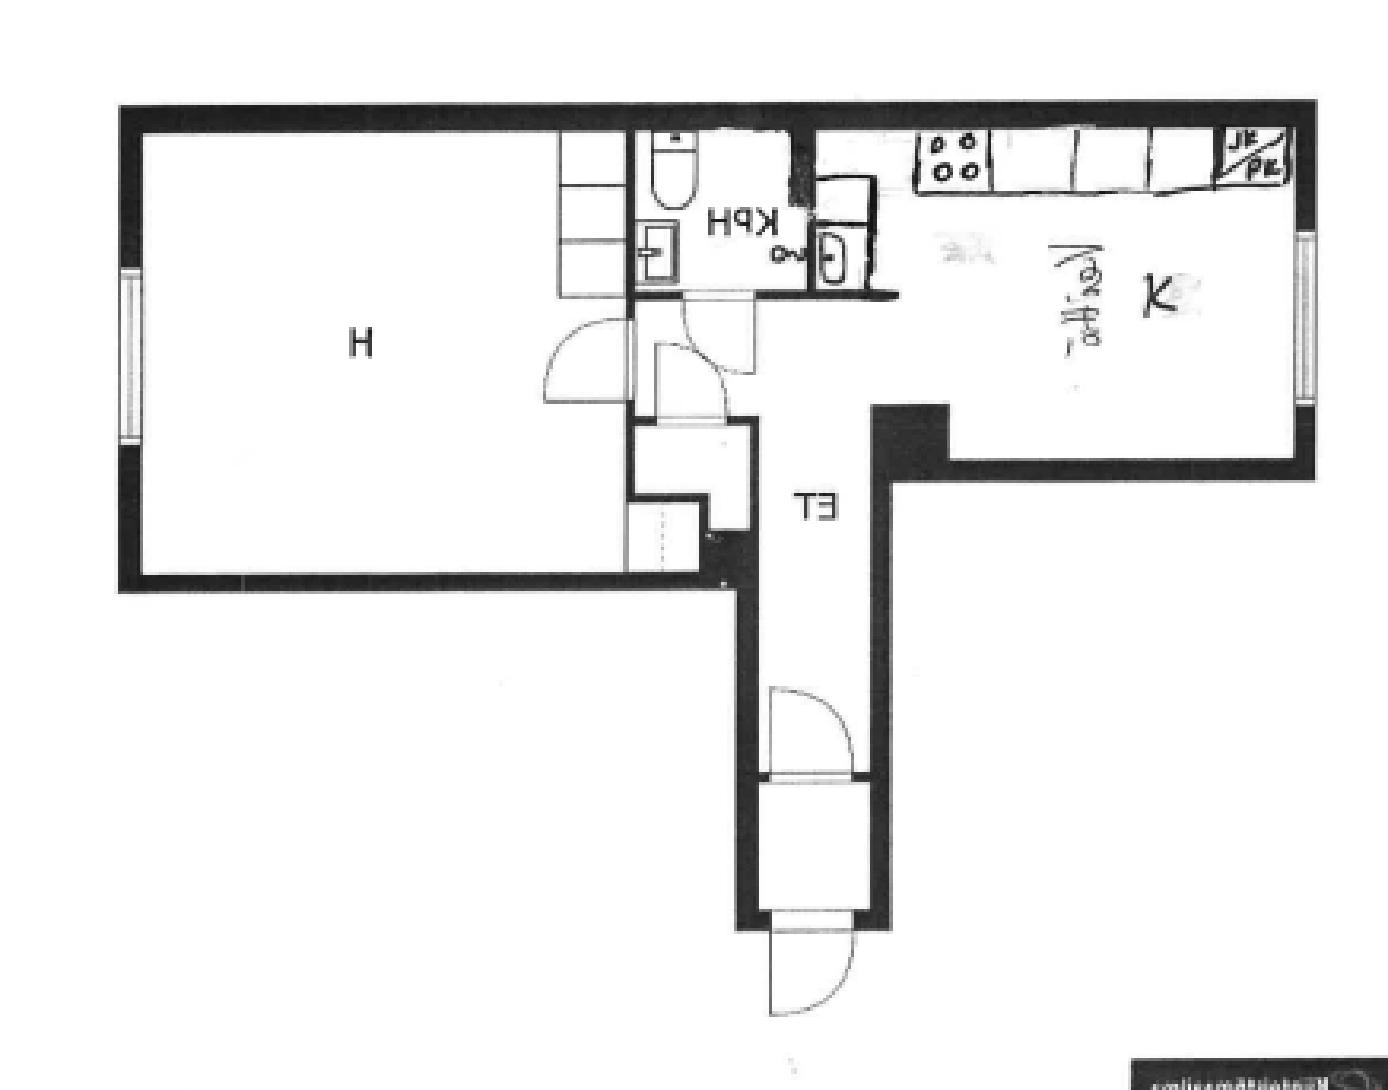door: (763, 900, 858, 1035), (760, 672, 858, 798), (531, 309, 637, 414), (680, 284, 764, 386), (651, 345, 726, 433)
window: (1285, 229, 1315, 407), (119, 271, 141, 450)
zone: (628, 129, 1302, 774), (143, 129, 629, 579), (634, 122, 813, 295), (628, 414, 756, 531), (755, 785, 874, 910), (626, 503, 704, 583)
